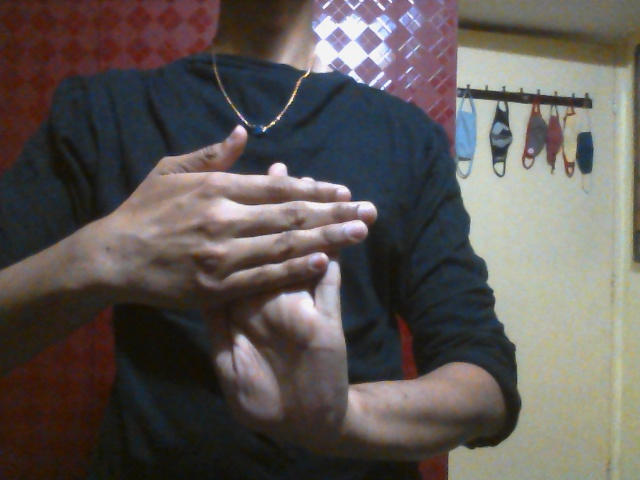H: (123, 125, 378, 442)
